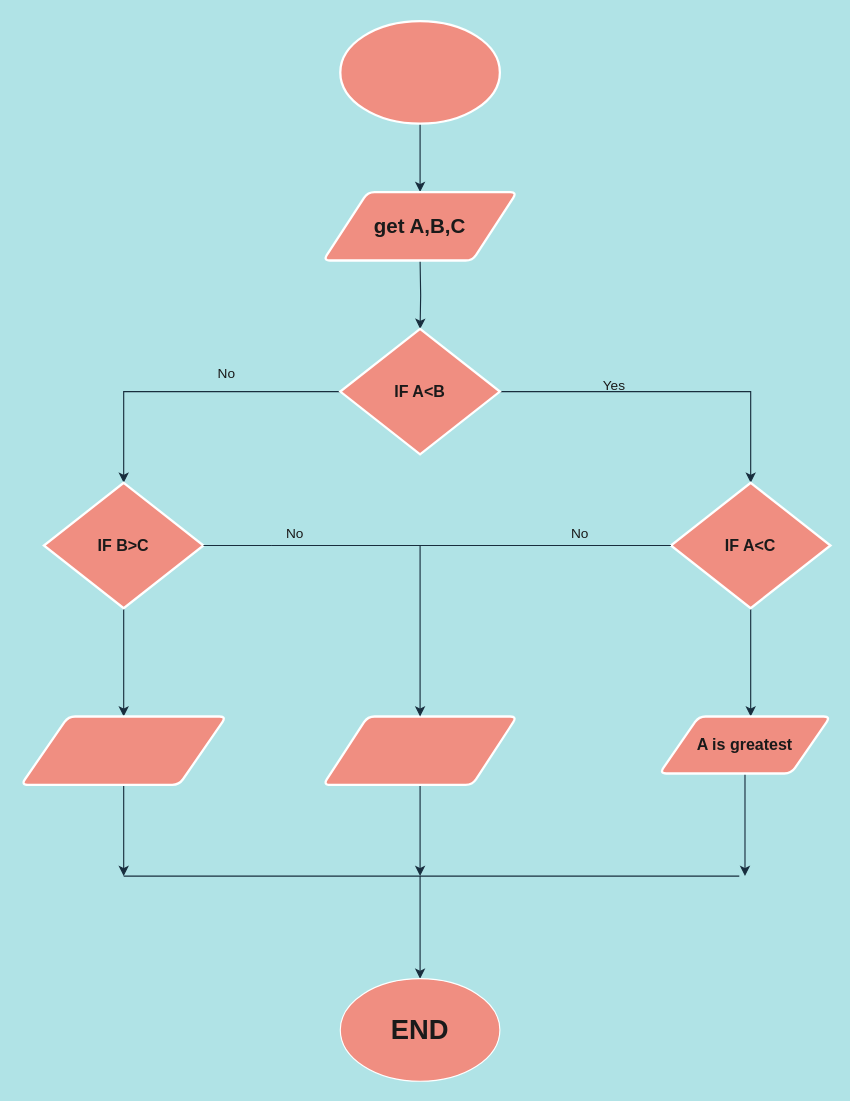
This 850x1101 diagram has some shape labels left out. Each missing label, with the centre of its shape:
B is greatest: (x=123, y=750)
C is greatest: (x=419, y=750)
START: (x=419, y=71)
